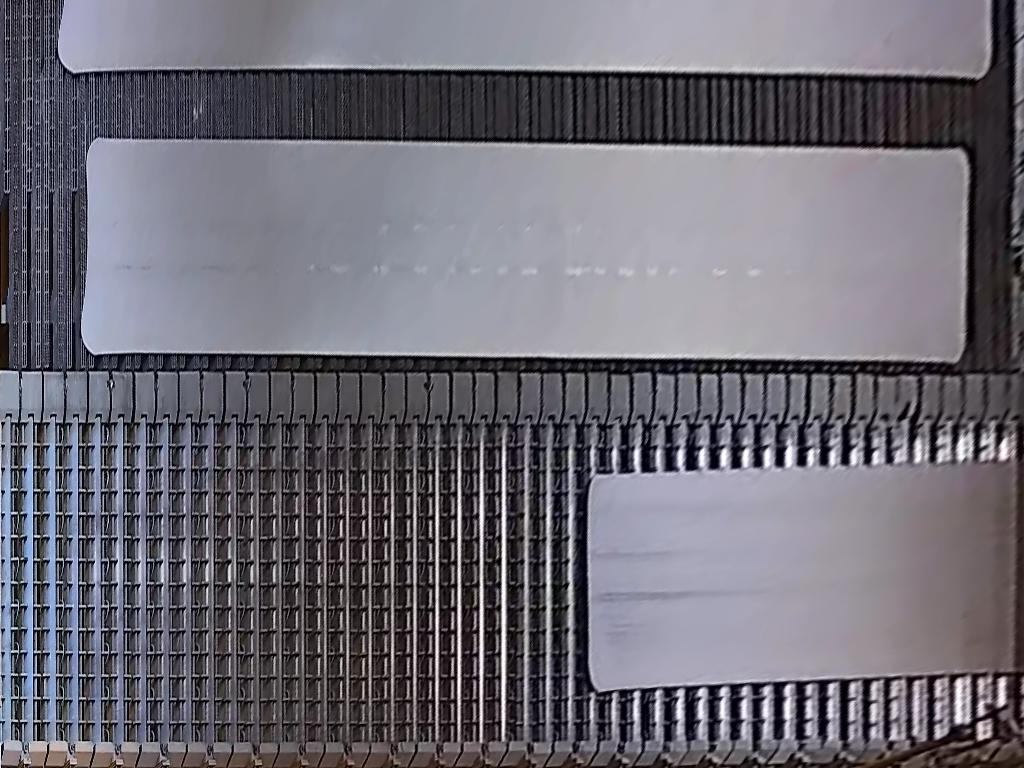steel: (79, 134, 966, 363), (589, 461, 1024, 695), (54, 1, 989, 78)
